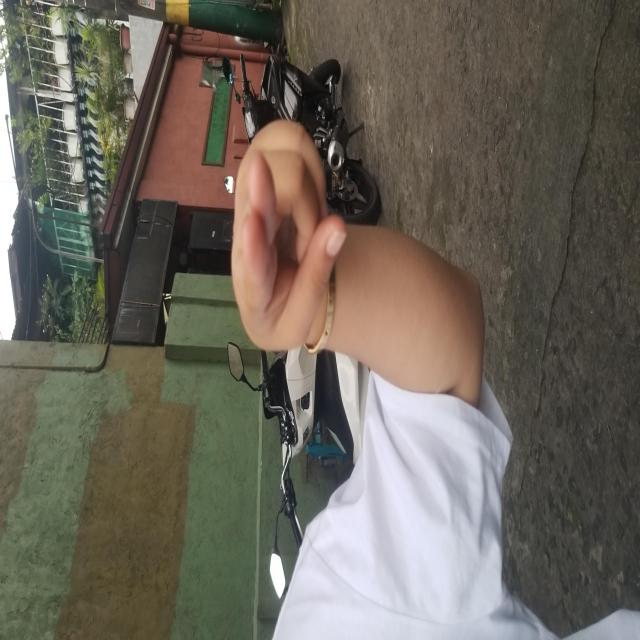N: (288, 232, 522, 350)
